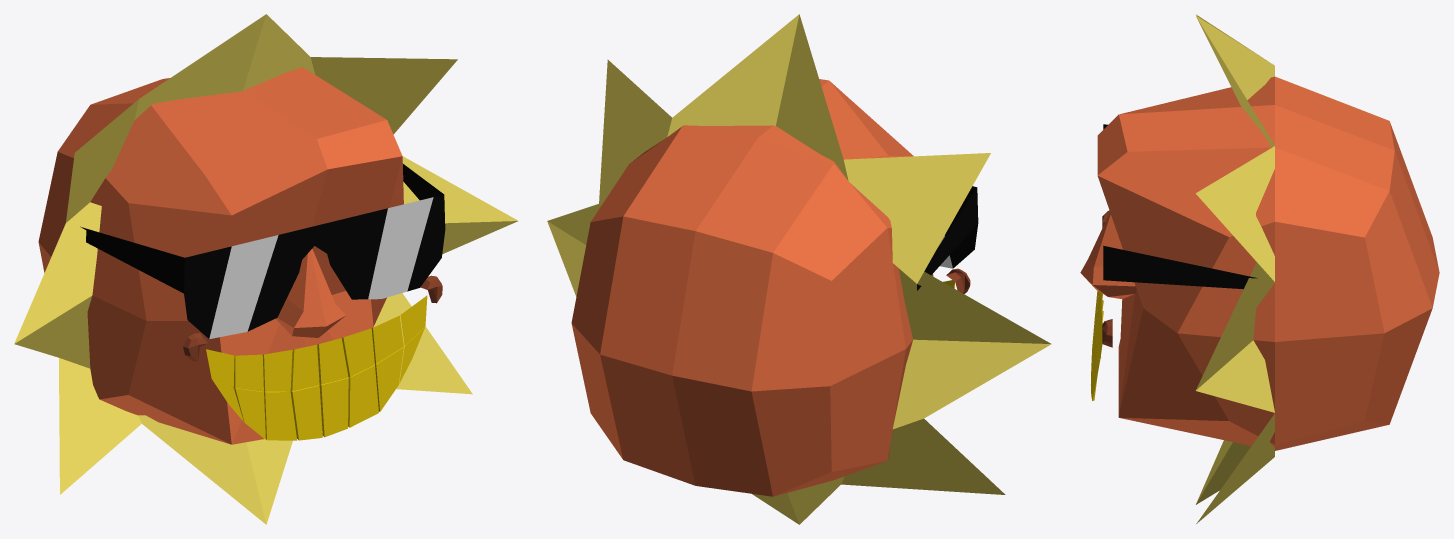
The model's file is coolSun.fbx.
3 views of the same model, side by side, from view 1: azimuth 30°, elevation 25°; view 2: azimuth 150°, elevation 25°; view 3: azimuth 270°, elevation 25° (orthographic). The views are drawn at different scales.
Parts seen in each view (by area): view 1: Cube, Plane.001, Plane, Cube.001, Cube.002; view 2: Cube, Plane.001, Plane; view 3: Cube, Plane.001, Plane, Cube.001.
Boxes of the visible parts, x1=… form: Cube: x1=38, y1=67, x2=403, y2=444; Plane.001: x1=14, y1=14, x2=518, y2=524; Plane: x1=80, y1=164, x2=445, y2=339; Cube.001: x1=206, y1=295, x2=427, y2=440; Cube.002: x1=183, y1=275, x2=442, y2=361; Cube: x1=571, y1=79, x2=933, y2=496; Plane.001: x1=547, y1=14, x2=1051, y2=524; Plane: x1=917, y1=186, x2=978, y2=290; Cube: x1=1080, y1=76, x2=1439, y2=450; Plane.001: x1=1195, y1=14, x2=1274, y2=523; Plane: x1=1103, y1=124, x2=1257, y2=289; Cube.001: x1=1091, y1=290, x2=1103, y2=400.
Size of the model in its own units: 311 by 301 by 200.
